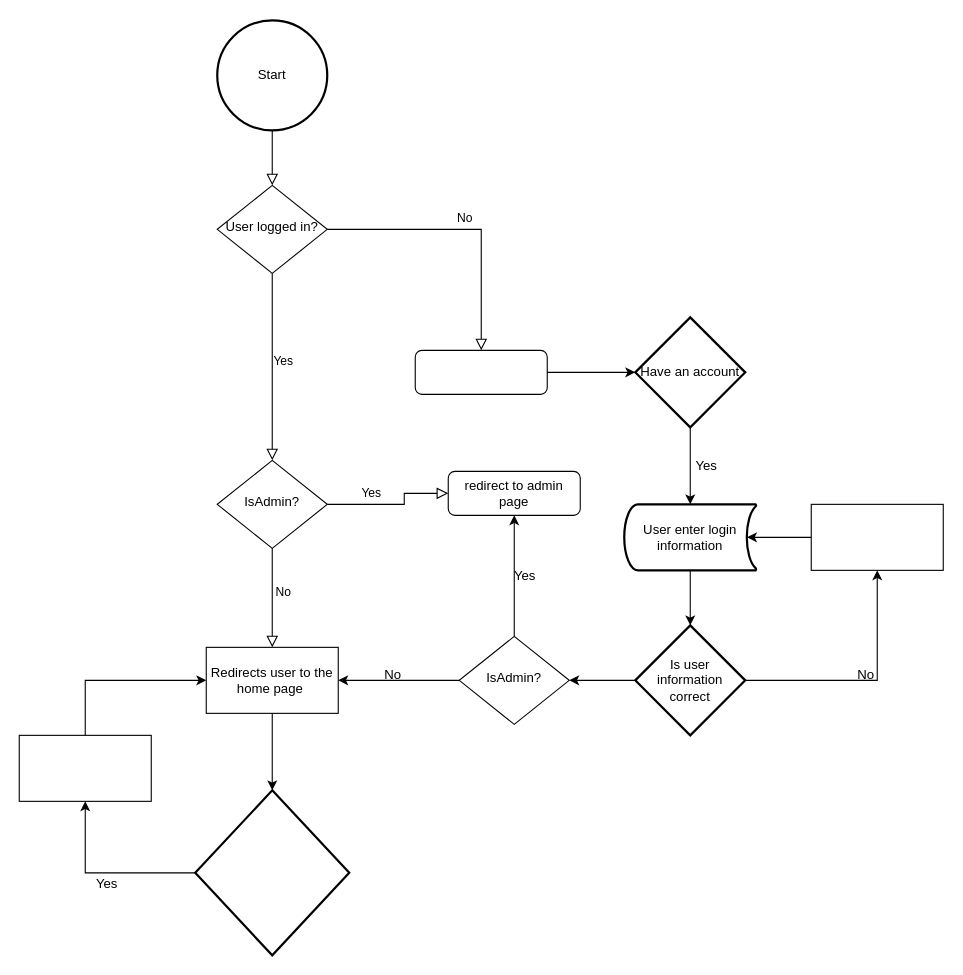
Some shapes in this 963 by 975 pixel diagram are drawn without their labels. The shapes that lost their labels are listed below. From the top down, each one's centre as x and y in pixels, then its label:
At (480,371): "Redirect to login page".
At (876,536): "User asked to login again".
At (84,767): "Redirect to homepage".
At (272,872): "Does user have user information".
